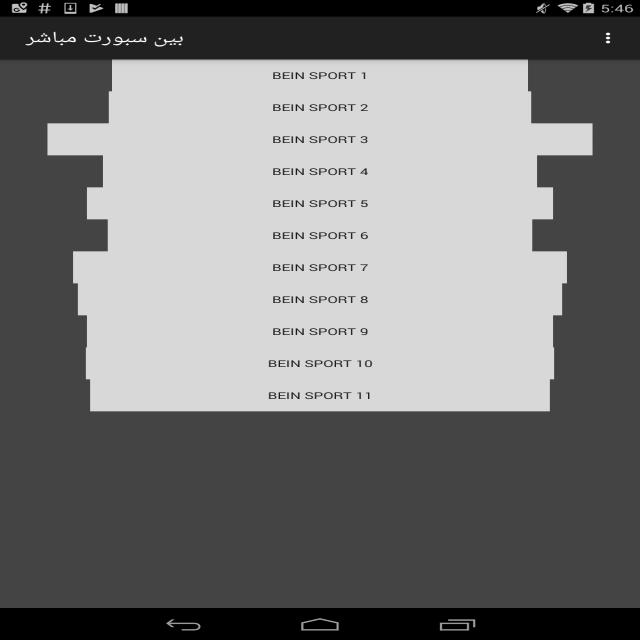ImageButton: (593, 24, 625, 48)
TextView: (21, 30, 190, 48), (262, 191, 384, 215), (264, 64, 378, 86), (264, 286, 376, 307), (257, 386, 387, 404)
